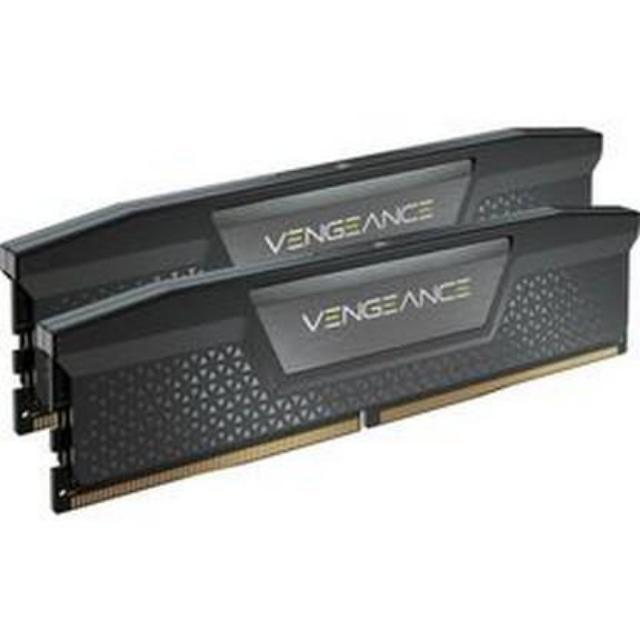RAM: (0, 114, 640, 518)
